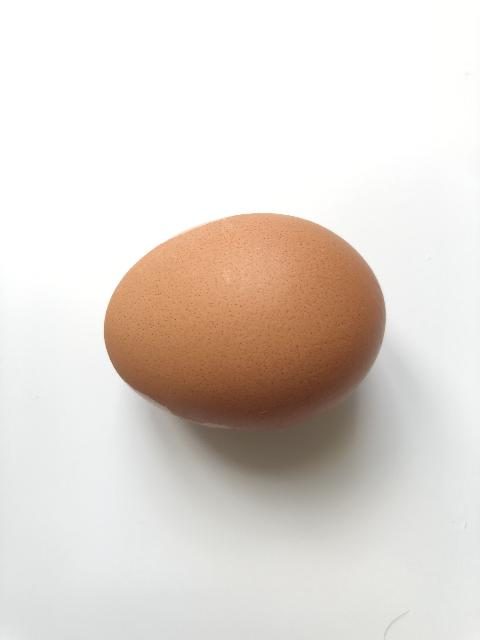Sano: (103, 212, 387, 427)
